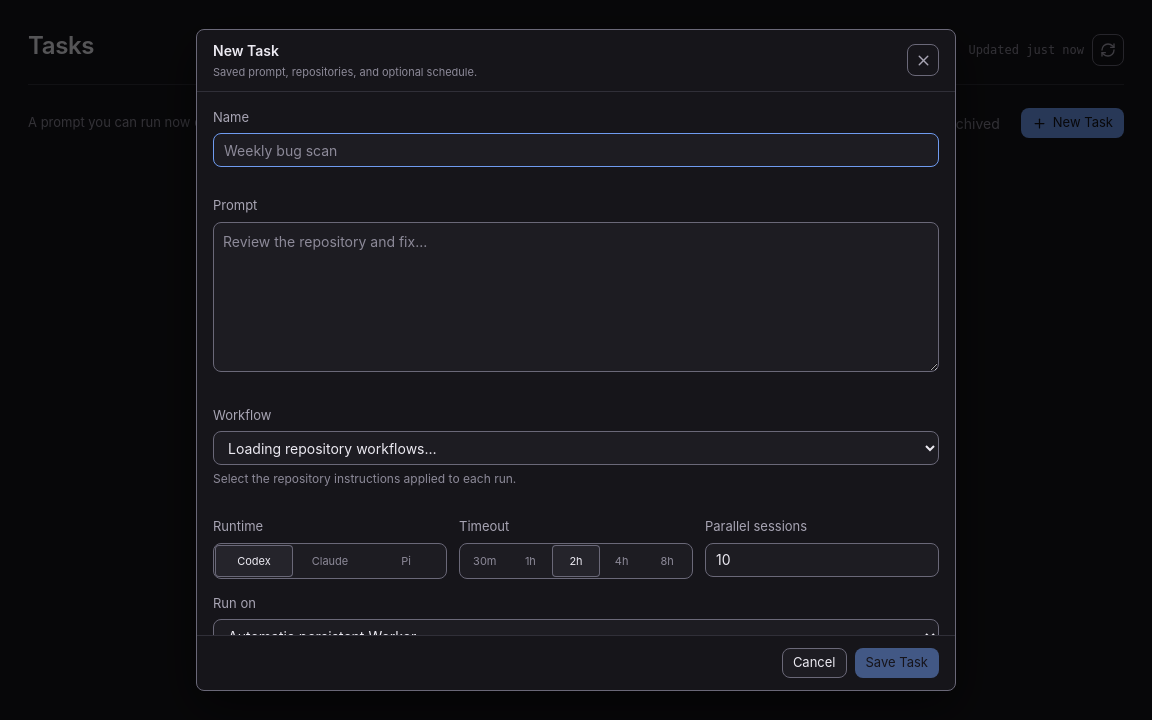
it: TasksView › blocks saving when no Workflow remains after repository changes
The width and height of the screenshot is (1152, 720).
Type "DBA review" into the field labelled "Name".
click(576, 150); type("DBA review")  # box 213,133 -> 939,167
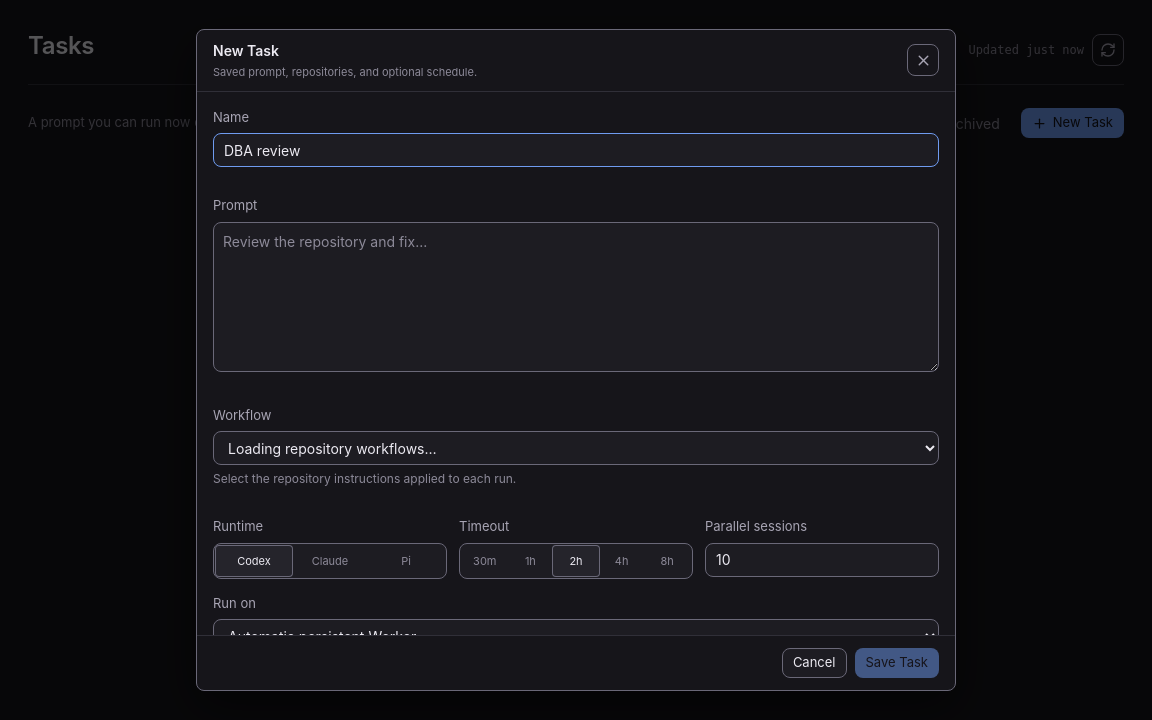
Type "Review the repository." into the text box labelled "Prompt".
click(576, 297); type("Review the repository.")  # box 213,222 -> 939,372
(page scrolled)
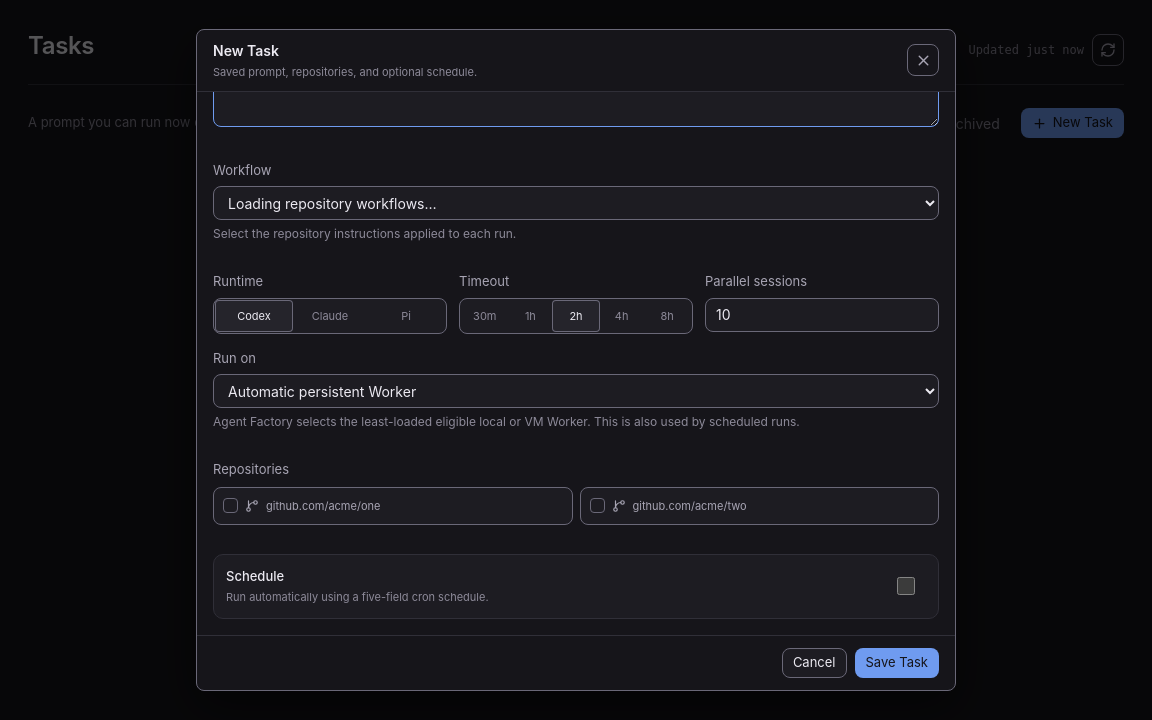
Click the button "github.com/acme/one".
click(323, 506)  # box 213,487 -> 572,525
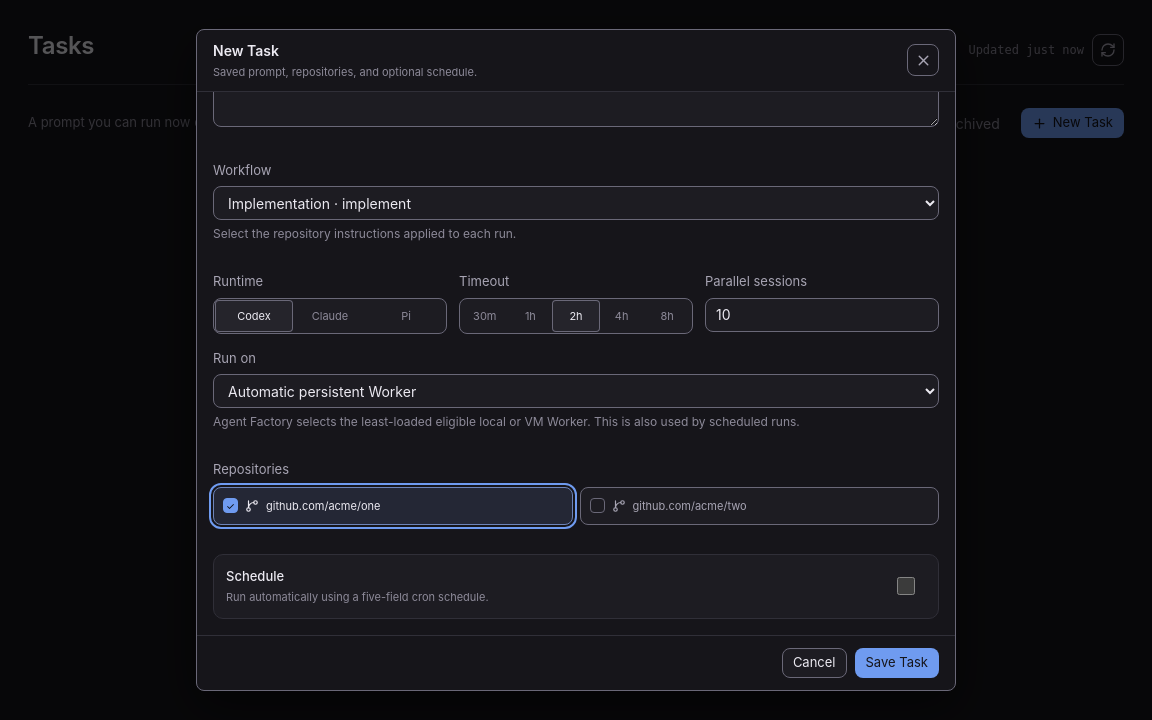
Select "DBA · dba" in the dropdown labelled "Workflow" at (576, 203), box 213,186 -> 939,220
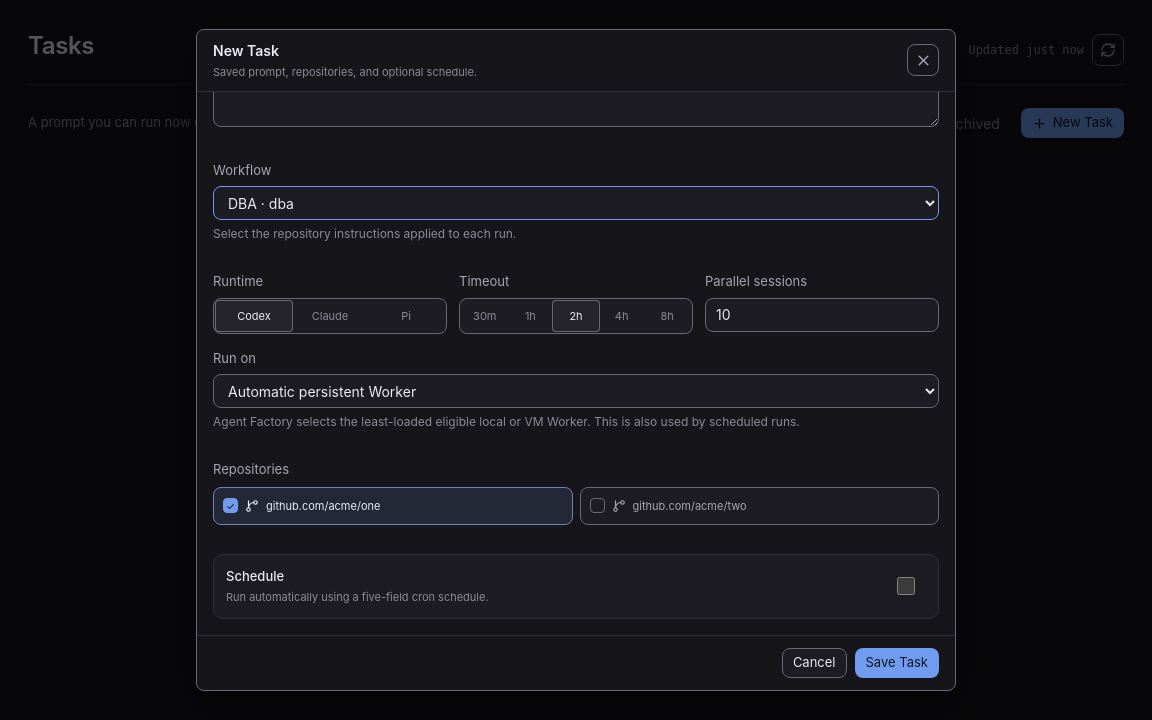
Click the button "github.com/acme/two".
click(690, 506)  # box 580,487 -> 939,525
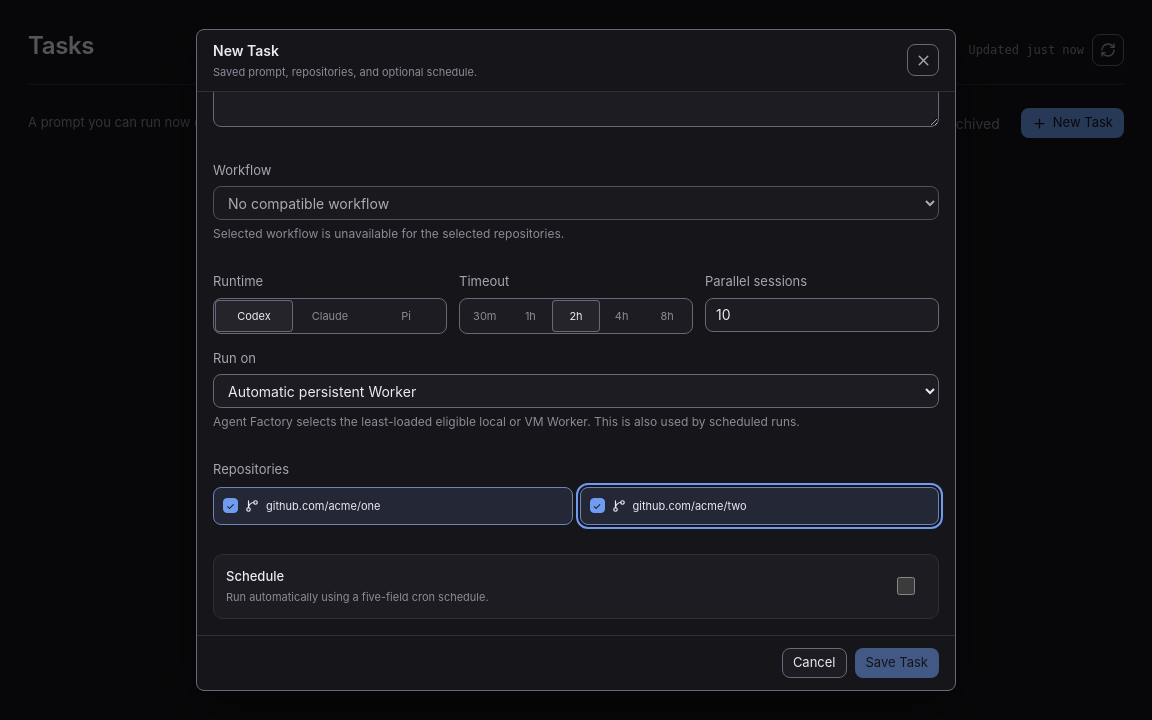
Expected: the text "Selected workflow is unavailable for the selected repositories." is shown, 213,226 -> 564,241
Expected: the button "Save Task" is disabled, 854,648 -> 939,678
